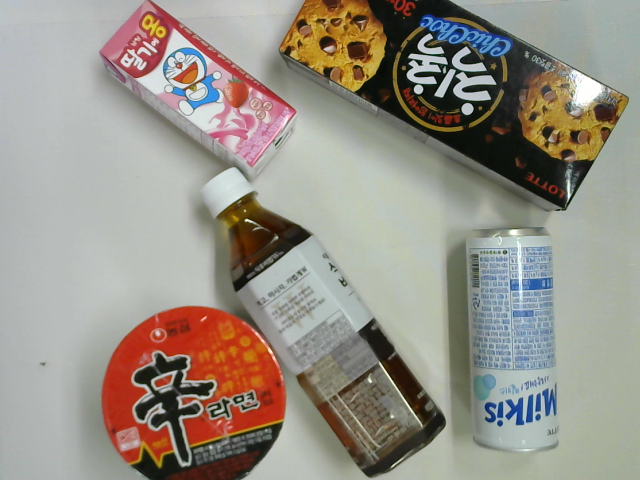Chicchok_Original_2400: (280, 1, 631, 213)
Milkies_250ml: (465, 224, 563, 456)
Post-meal_recipe_W_tea_500ml: (196, 167, 448, 478)
Sinramen_small: (101, 305, 287, 480)
Strawberry_E_Mong: (97, 6, 299, 181)
